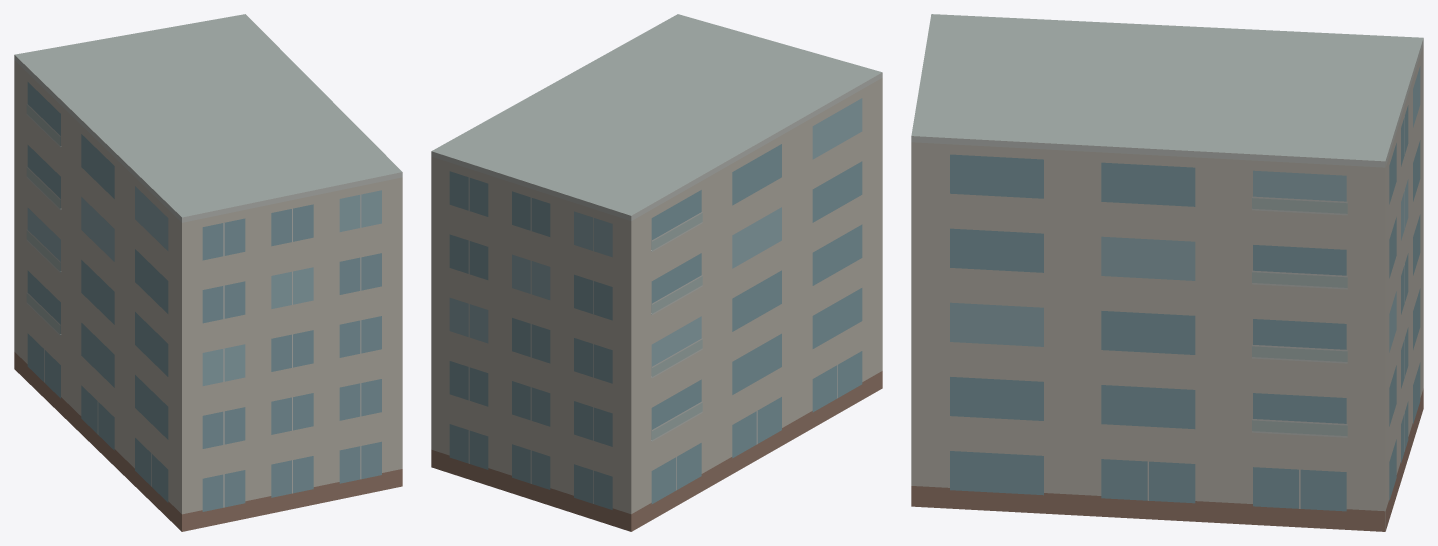
The model's file is survey-upis-32762848.glb.
The picture shows the model from 3 angles, left to right: view 1: azimuth 30°, elevation 25°; view 2: azimuth 150°, elevation 25°; view 3: azimuth 270°, elevation 25°; orthographic projection. The views are drawn at different scales.
Visible parts, largest first — view 1: survey-upis-32762848.tmp; view 2: survey-upis-32762848.tmp; view 3: survey-upis-32762848.tmp.
Boxes of the visible parts, x1,y1,x2,y2 form: survey-upis-32762848.tmp: [14, 14, 402, 531]; survey-upis-32762848.tmp: [431, 14, 882, 531]; survey-upis-32762848.tmp: [911, 14, 1423, 531].
Size of the model in its own units: 12.29 by 14.4 by 18.06.
